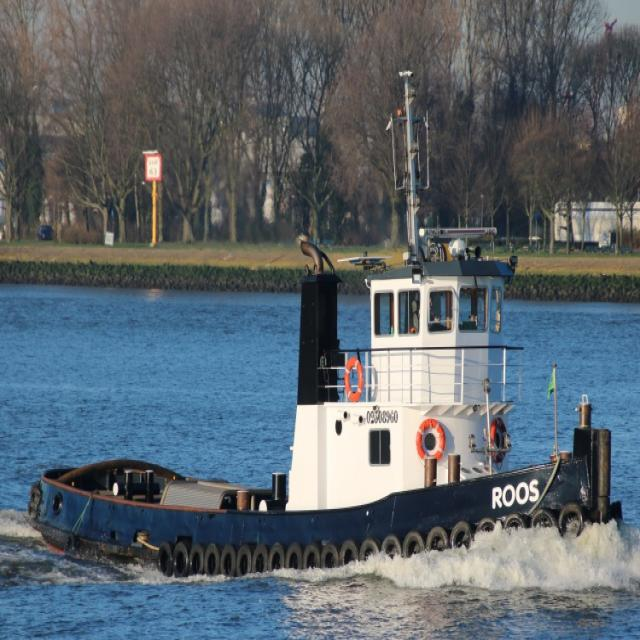tugboat: (22, 225, 626, 605)
